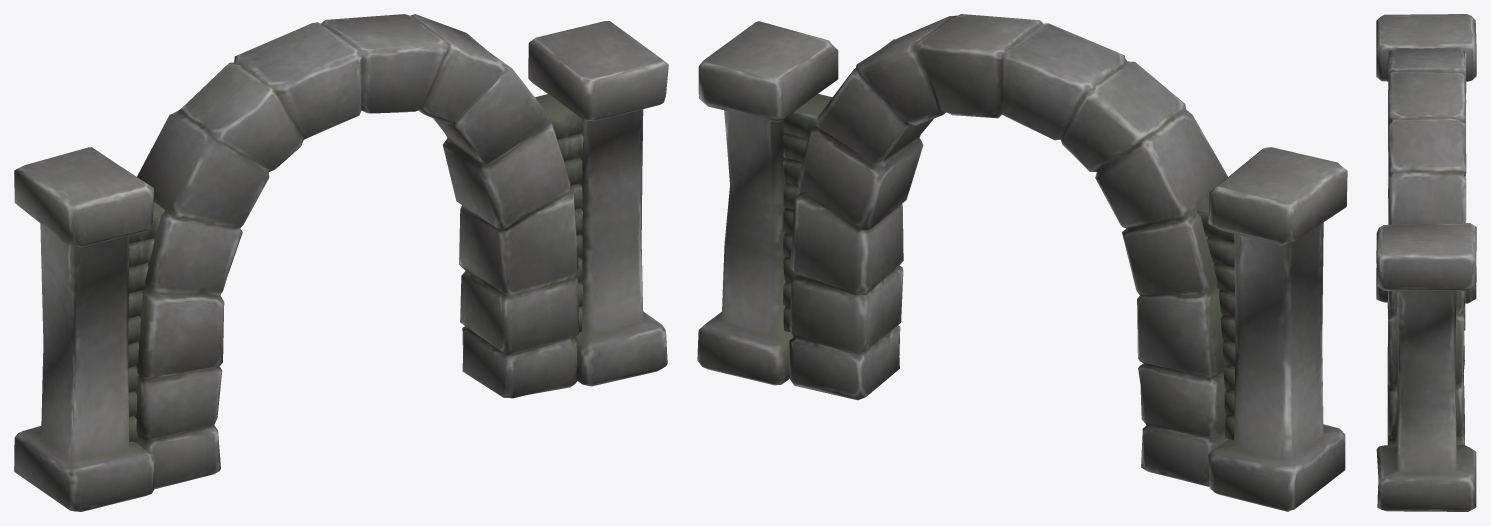
Rendered from SM_Stylized_Arch.glb.
3 views of the same model, side by side, from view 1: azimuth 30°, elevation 25°; view 2: azimuth 150°, elevation 25°; view 3: azimuth 270°, elevation 25° (orthographic). The views are drawn at different scales.
Visible parts, largest first — view 1: SM_Stylized_Arch; view 2: SM_Stylized_Arch; view 3: SM_Stylized_Arch.
Part boxes in pixels (left/top/right/bottom): SM_Stylized_Arch: left=14, top=14, right=668, bottom=511; SM_Stylized_Arch: left=697, top=14, right=1347, bottom=511; SM_Stylized_Arch: left=1376, top=14, right=1476, bottom=511.
Size of the model in its own units: 6.6 by 4.07 by 1.15.
1 material, 1 textured.
